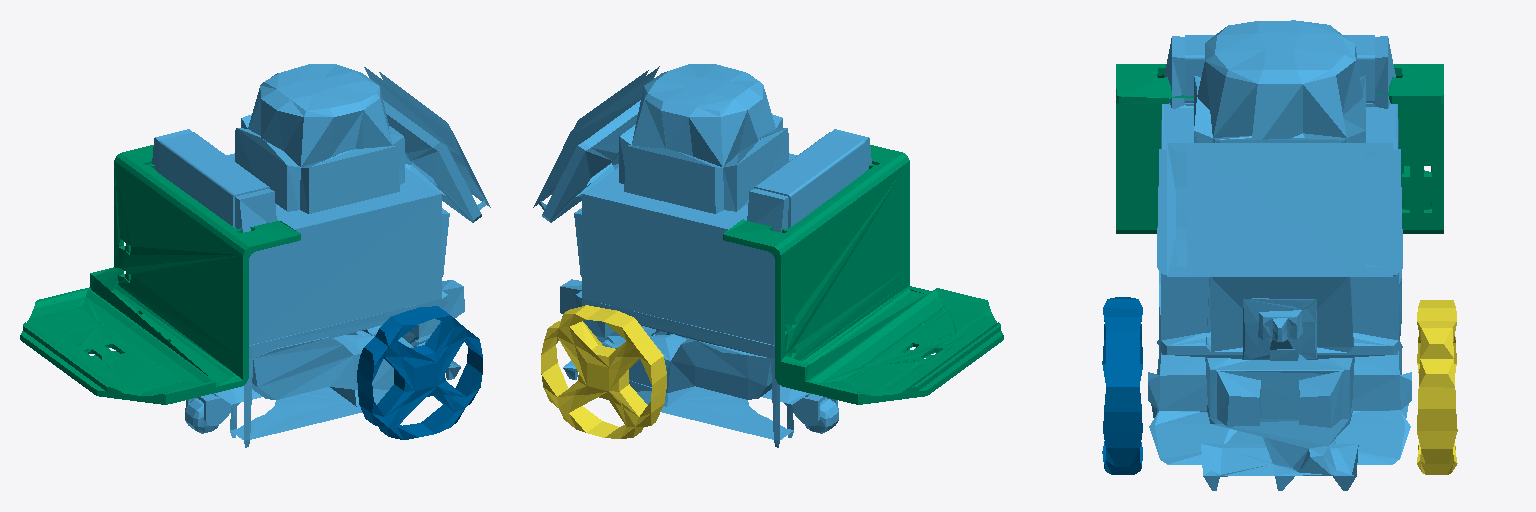
URDF robot description (pinky_pro):
<robot name="pinky_pro">
  <link name="base_footprint"/>
  <link name="body"><visual><geometry><mesh filename="pinky-body.stl"/></geometry></visual></link>
  <link name="cargo_tray"><visual><geometry><mesh filename="pinky-tray.stl"/></geometry></visual></link>
  <link name="l_wheel"><visual><origin xyz="0 0 0" rpy="0 0 1.5708"/><geometry><mesh filename="pinky-wheel.stl"/></geometry></visual></link>
  <link name="r_wheel"><visual><origin xyz="0 0 0" rpy="0 0 -1.5708"/><geometry><mesh filename="pinky-wheel.stl"/></geometry></visual></link>
  <joint name="body_fixed" type="fixed"><parent link="base_footprint"/><child link="body"/><origin xyz="0 0 0" rpy="0 0 0"/></joint>
  <joint name="cargo_tray_fixed" type="fixed"><parent link="base_footprint"/><child link="cargo_tray"/><origin xyz="0 0 0" rpy="0 0 0"/></joint>
  <joint name="l_wheel_joint" type="continuous"><parent link="base_footprint"/><child link="l_wheel"/><origin xyz="0 0.04055 0.028" rpy="0 0 0"/><axis xyz="0 1 0"/></joint>
  <joint name="r_wheel_joint" type="continuous"><parent link="base_footprint"/><child link="r_wheel"/><origin xyz="0 -0.04055 0.028" rpy="0 0 0"/><axis xyz="0 1 0"/></joint>
</robot>

--- Facts derived from the render (not from the file) ---
Views: 3 orthographic renders of the robot side by side, from view 1: azimuth 30°, elevation 25°; view 2: azimuth 150°, elevation 25°; view 3: azimuth 270°, elevation 25°.
Robot: pinky_pro — 5 links, 4 joints (2 continuous, 2 fixed); root link base_footprint; default pose: every joint at zero.
Links seen in each view (by area): view 1: body, cargo_tray, r_wheel; view 2: body, cargo_tray, l_wheel; view 3: body, cargo_tray, r_wheel, l_wheel.
Boxes of the visible links, bbox=[...] form: body: bbox=[152, 64, 490, 447]; cargo_tray: bbox=[20, 145, 300, 404]; r_wheel: bbox=[357, 306, 482, 439]; body: bbox=[533, 64, 871, 447]; cargo_tray: bbox=[723, 145, 1003, 404]; l_wheel: bbox=[541, 305, 666, 438]; body: bbox=[1148, 20, 1411, 490]; cargo_tray: bbox=[1116, 64, 1443, 233]; r_wheel: bbox=[1102, 297, 1142, 474]; l_wheel: bbox=[1417, 300, 1457, 474].
Size in the robot's own frame: 0.1755 by 0.1086 by 0.1355 metres.
4 mesh visuals loaded from 3 distinct referenced files (3 binary STL).
